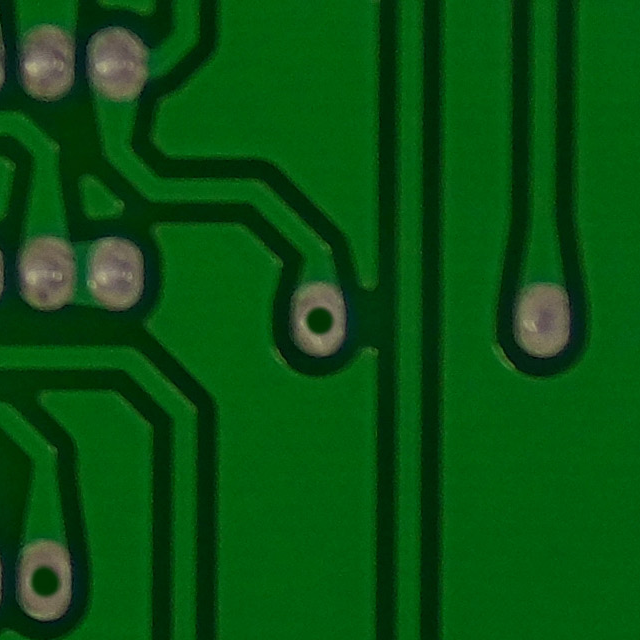missing_hole: (1, 533, 92, 631), (272, 281, 368, 359)
